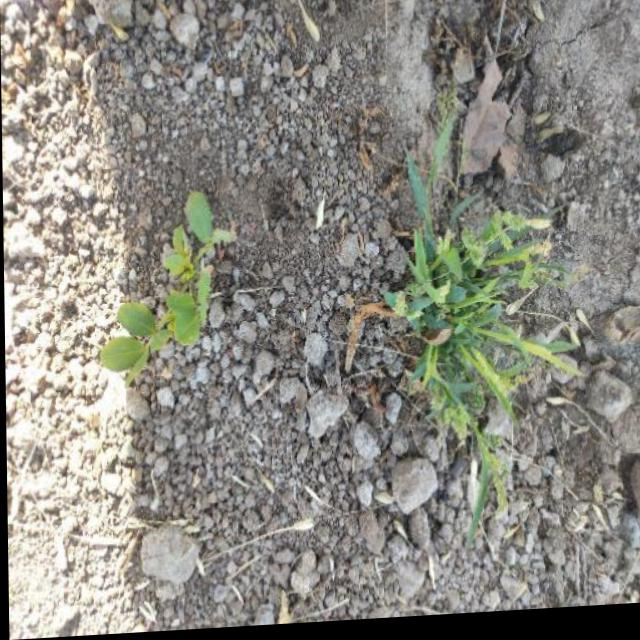weed: (384, 180, 575, 486), (95, 189, 220, 385)
